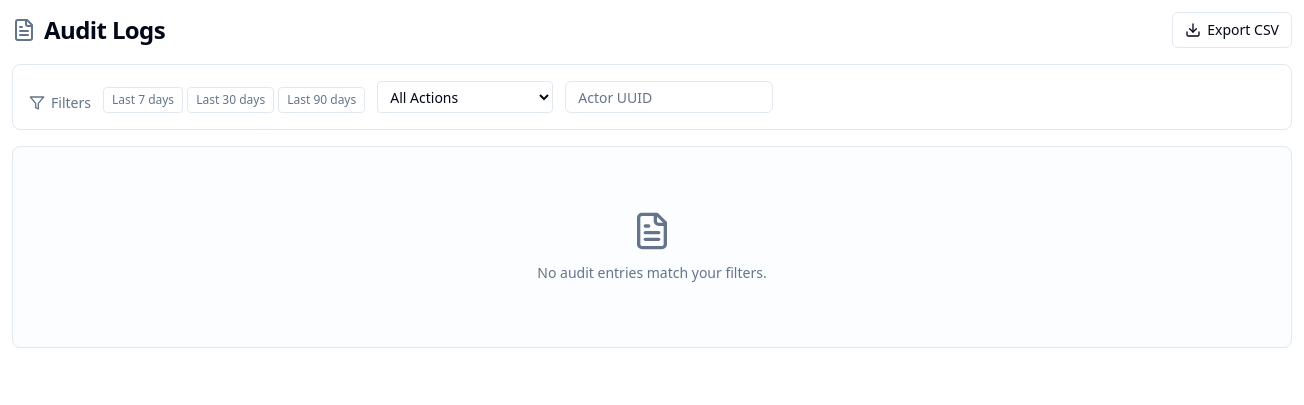
Scenario: Filter bar (AC5) › shows active chip when date preset is selected
Click the button with test id "preset-7d" at (143, 100), box top-left (103, 87), bottom-right (183, 113)
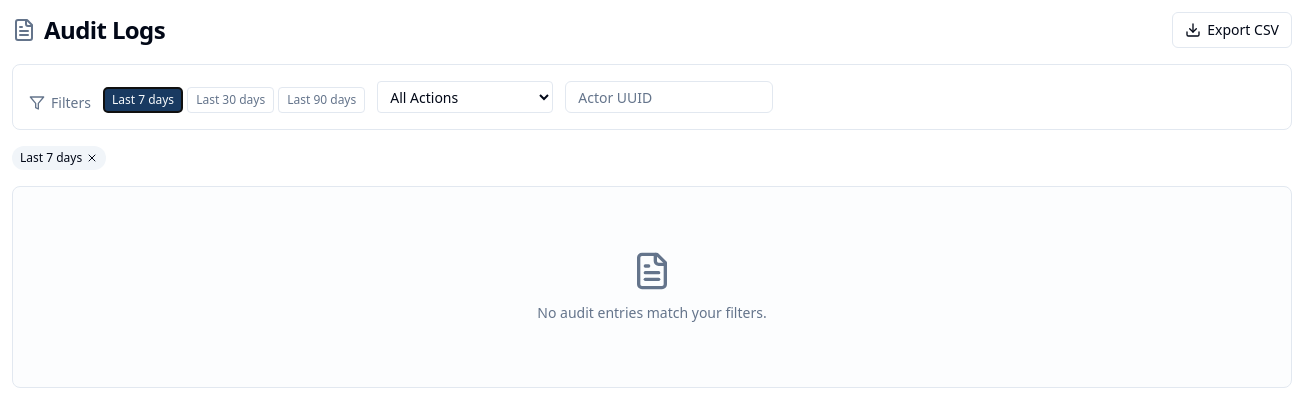
expect the element with test id "chip-date" is shown: met, box top-left (12, 146), bottom-right (106, 170)
